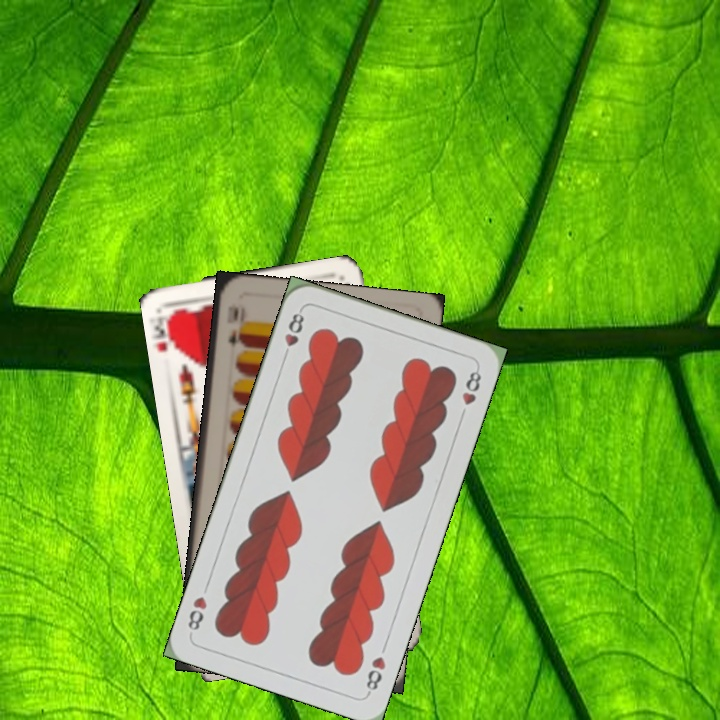E10: (223, 300, 245, 349)
H8: (279, 305, 307, 363), (362, 652, 389, 697)
HK: (150, 307, 182, 358)
